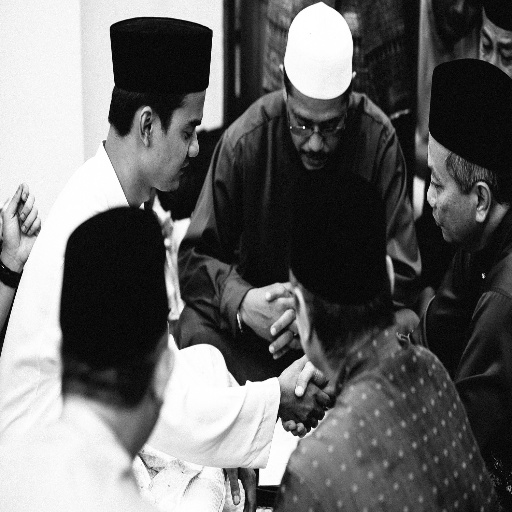hand: (280, 359, 337, 437), (242, 284, 305, 354), (277, 353, 330, 433), (1, 179, 43, 267), (262, 284, 296, 365), (223, 467, 259, 511)
